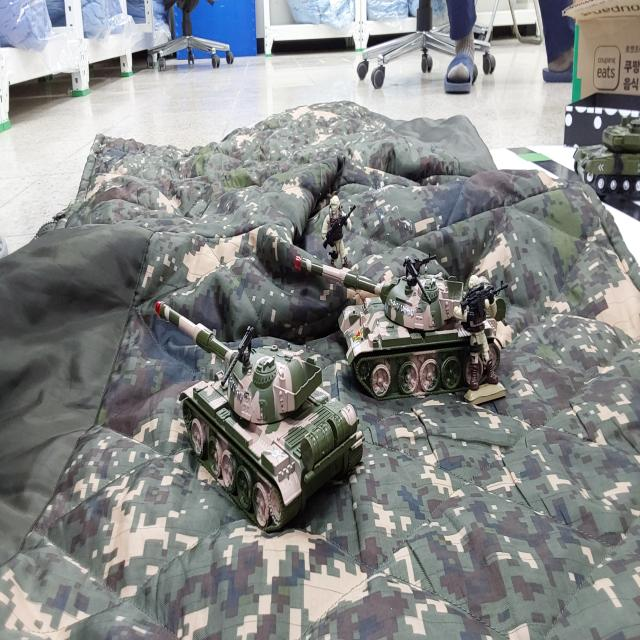ally: (453, 275, 505, 404), (321, 195, 355, 288)
